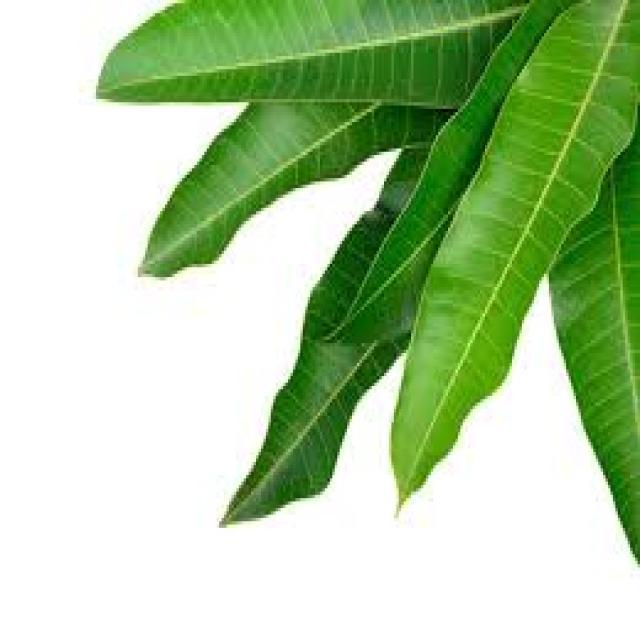banana_leaf: (95, 0, 638, 563)
